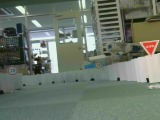stop: (139, 40, 159, 57)
